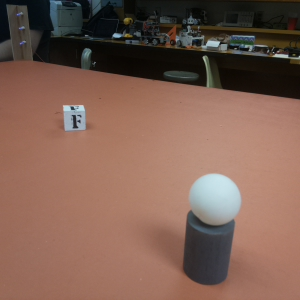blockF: (62, 104, 87, 132)
corner: (6, 4, 34, 60)
obstacle: (185, 171, 240, 284)
